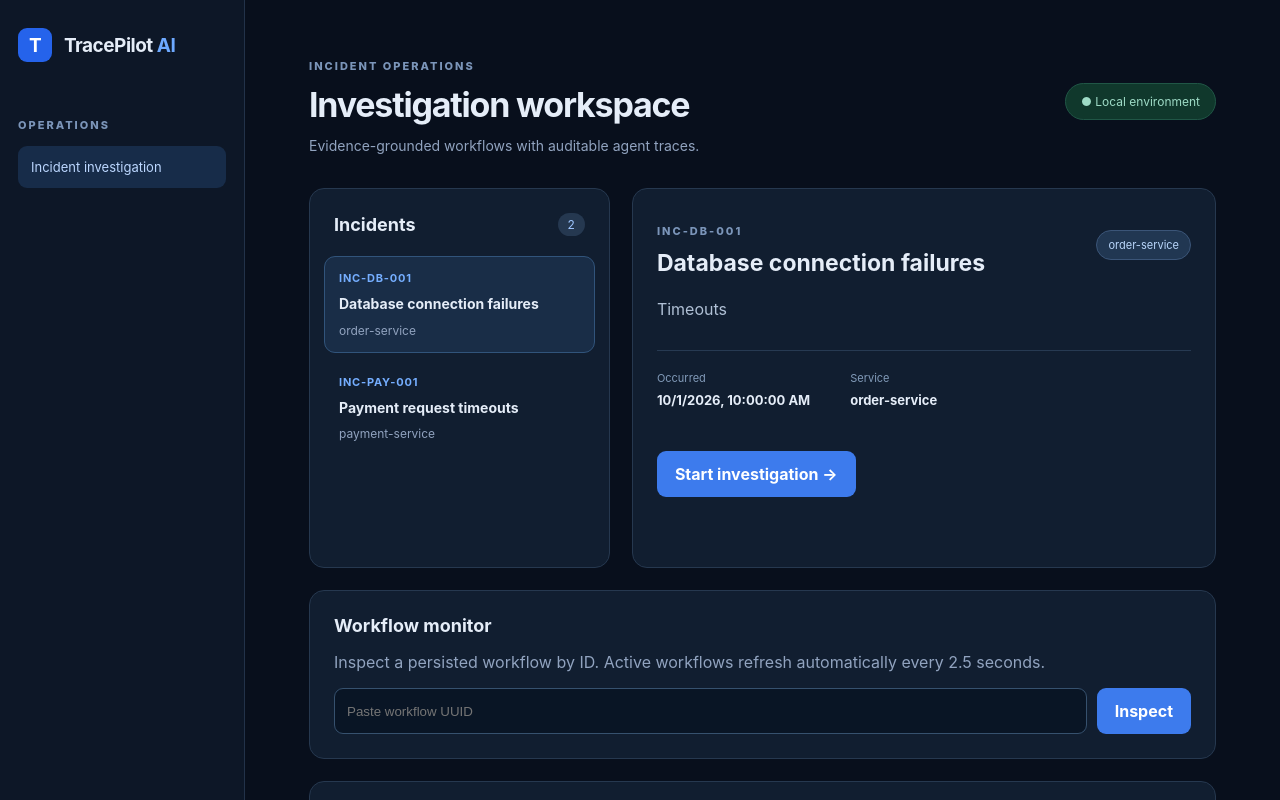
Test: Investigation workspace › loads incidents and switches the selected incident
expect the heading "Database connection failures" is shown: met, box [657,249,985,278]
Click the button "INC-PAY-001 Payment request timeouts payment-service": (459, 408) [324,360,595,456]
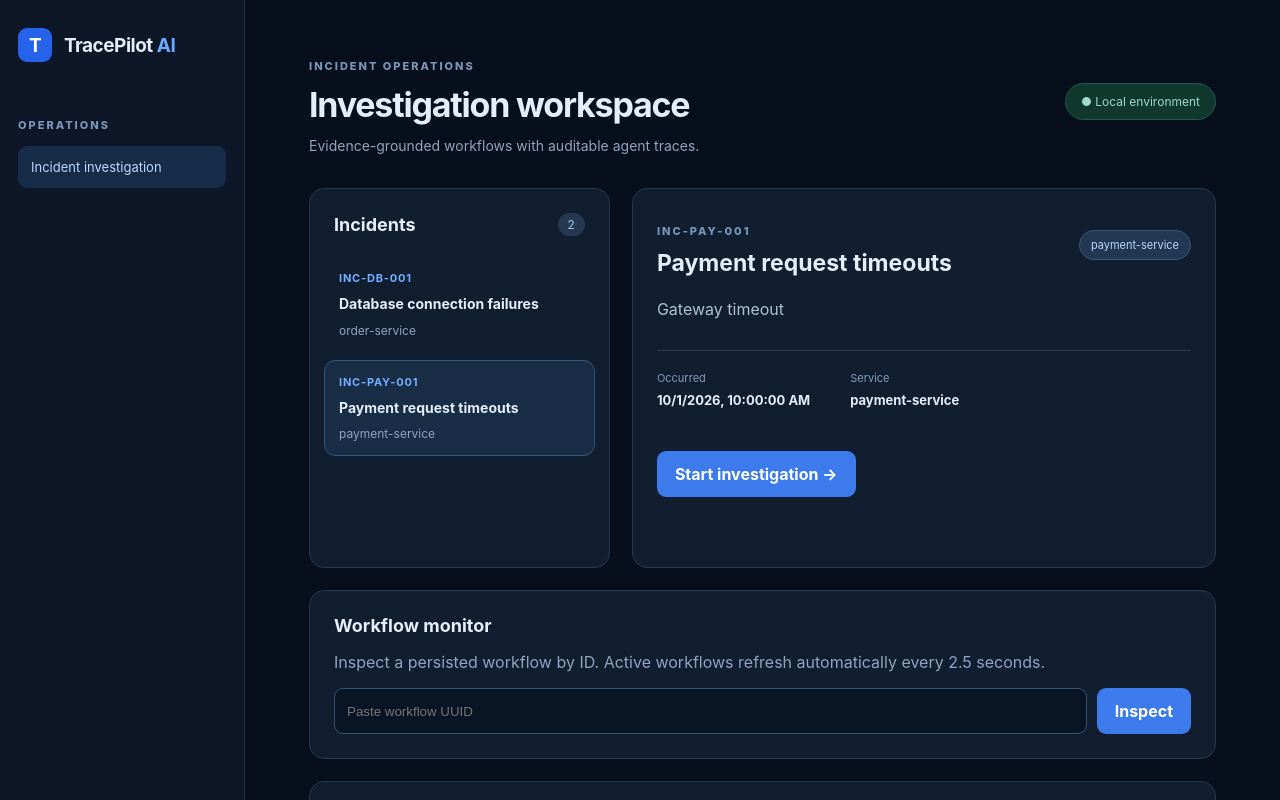
expect the heading "Payment request timeouts" is shown: met, box [657,249,952,278]
